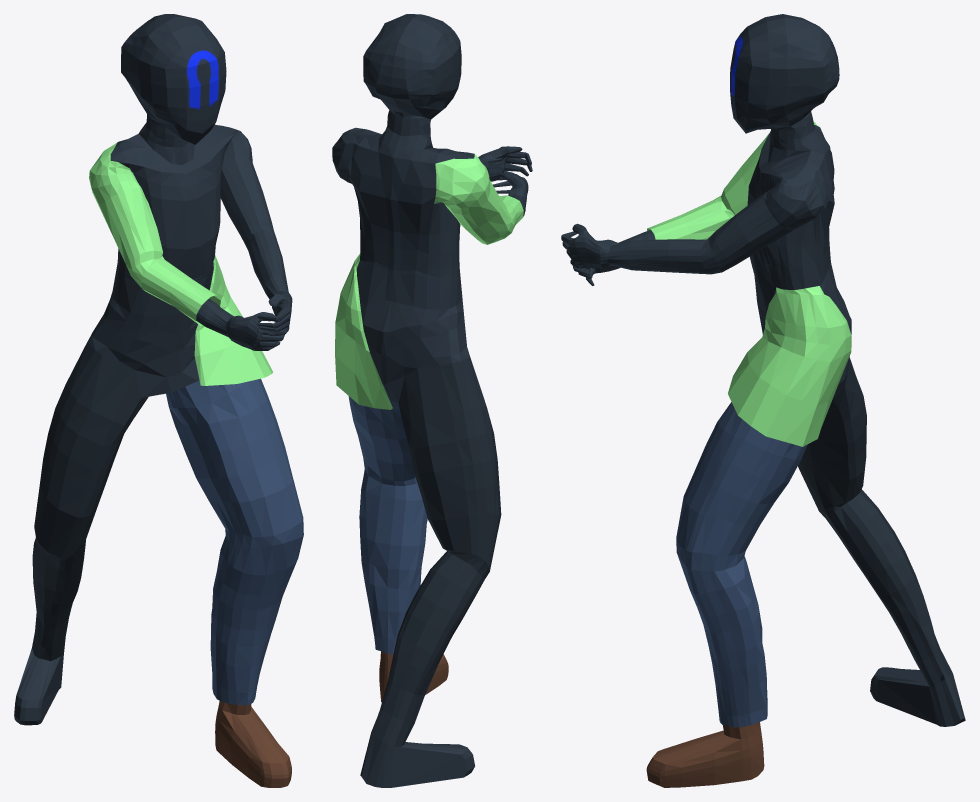
Rendered from Mar_WF_000006.obj.
3 views of the same model, side by side, from view 1: azimuth 30°, elevation 25°; view 2: azimuth 150°, elevation 25°; view 3: azimuth 270°, elevation 25° (orthographic). The views are drawn at different scales.
Visible parts, largest first — view 1: Cube.000_Cube.001; view 2: Cube.000_Cube.001; view 3: Cube.000_Cube.001.
Boxes of the visible parts, box(x1,y1,x2,y2) form: Cube.000_Cube.001: box(14, 14, 303, 787); Cube.000_Cube.001: box(332, 14, 532, 787); Cube.000_Cube.001: box(561, 14, 965, 787).
Size of the model in its own units: 1.08 by 3.81 by 1.88.
